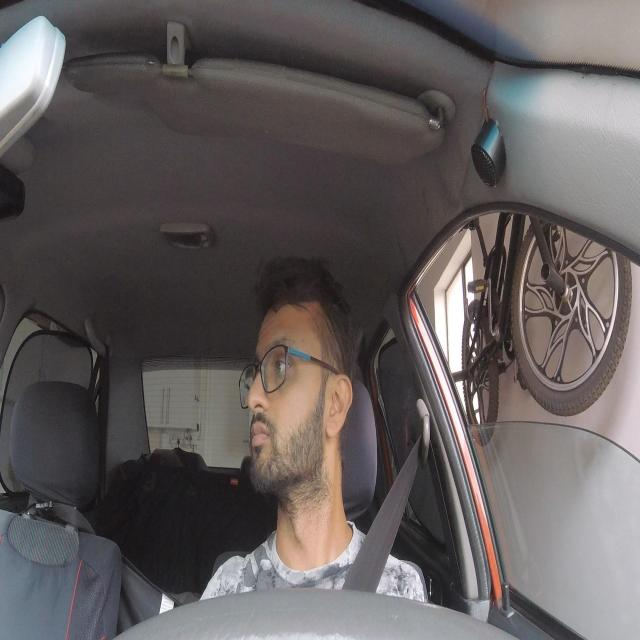open: (267, 334, 301, 398)
